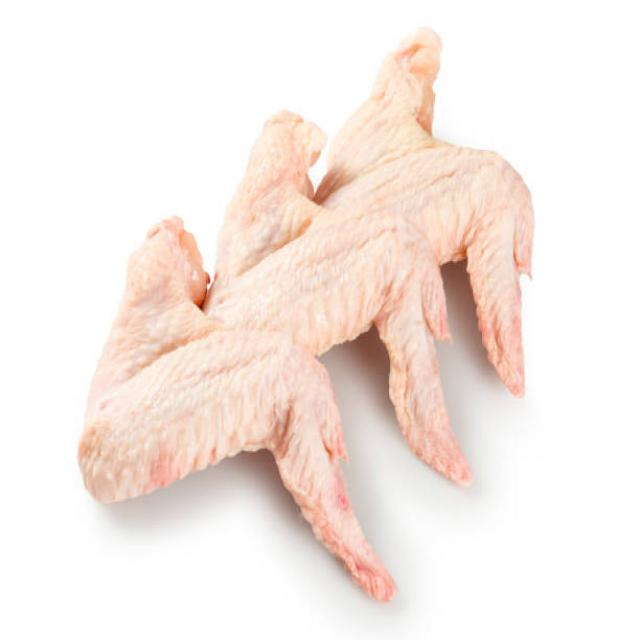Chicken: (69, 304, 391, 602), (219, 164, 464, 483)
